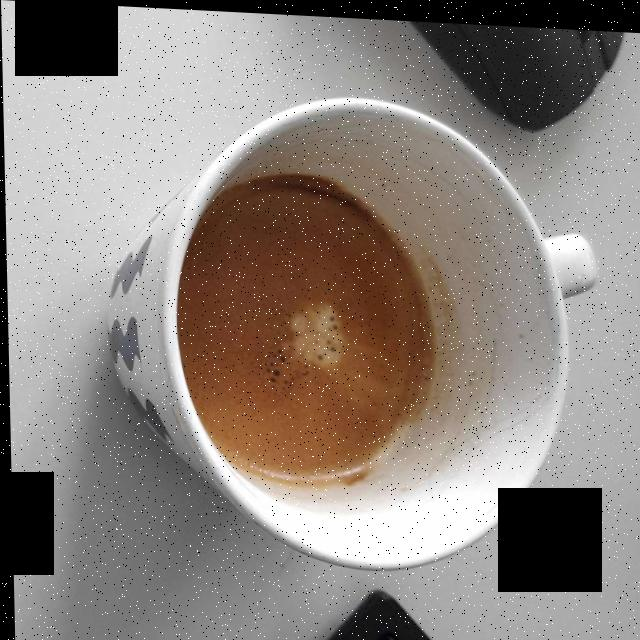coffee-with-caffeine: (184, 171, 432, 483)
